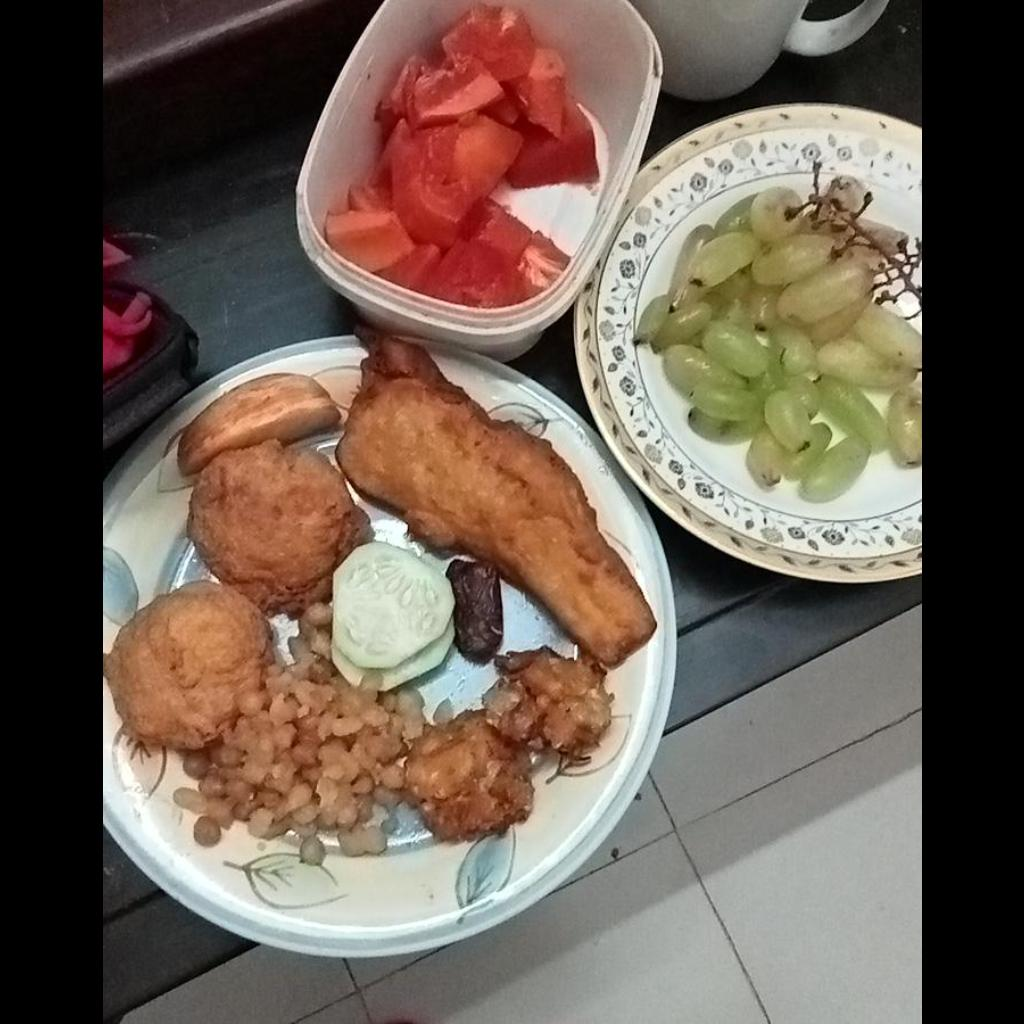apple: (173, 373, 333, 468)
beguni: (342, 329, 657, 659)
burinda: (168, 621, 438, 865)
chop-alu: (102, 455, 359, 744)
cucumber: (335, 545, 446, 683)
dates: (454, 568, 502, 663)
grapes: (630, 192, 920, 497)
peyaju: (414, 646, 621, 834)
watermelon: (320, 18, 603, 306)
